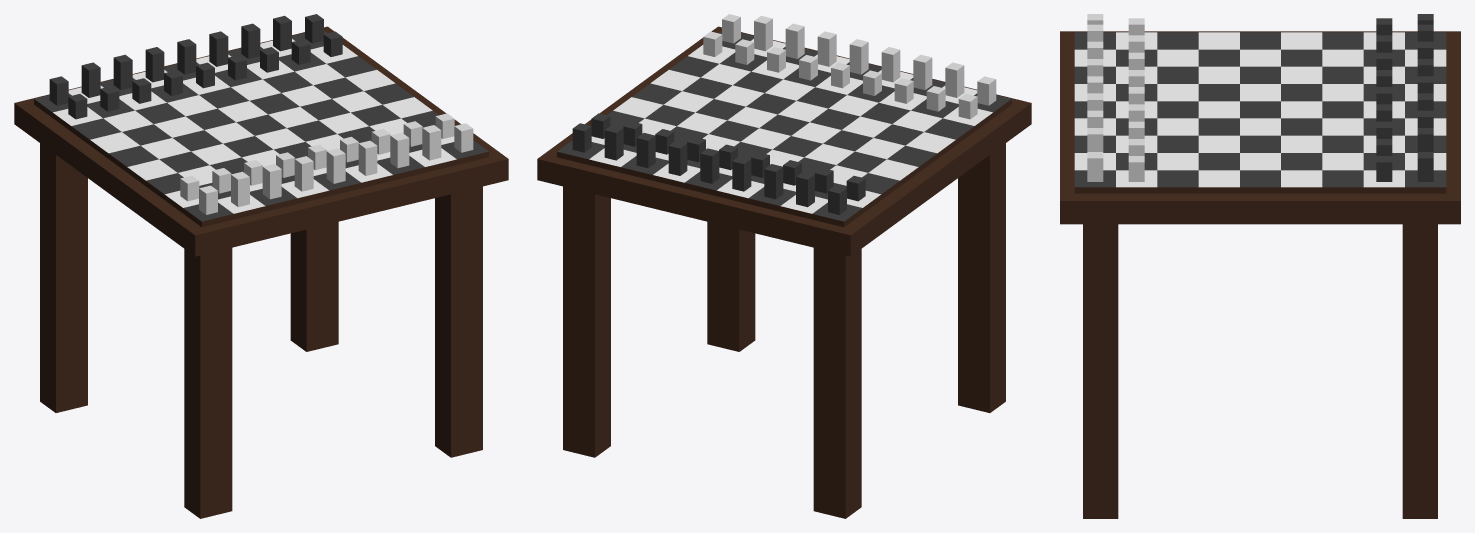
File: chessTableTile.glb
3 views of the same model, side by side, from view 1: azimuth 30°, elevation 25°; view 2: azimuth 150°, elevation 25°; view 3: azimuth 270°, elevation 25° (orthographic). The views are drawn at different scales.
Visible parts, largest first — view 1: Cube; view 2: Cube; view 3: Cube.
Boxes of the visible parts, bbox=[...] form: Cube: bbox=[14, 14, 508, 518]; Cube: bbox=[537, 14, 1031, 518]; Cube: bbox=[1060, 14, 1460, 518].
Size of the model in its own units: 1 by 1 by 1.
Materials: 1 (1 with a texture image).
